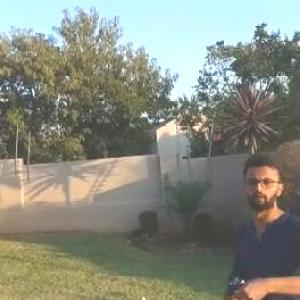follow: (221, 146, 300, 299)
